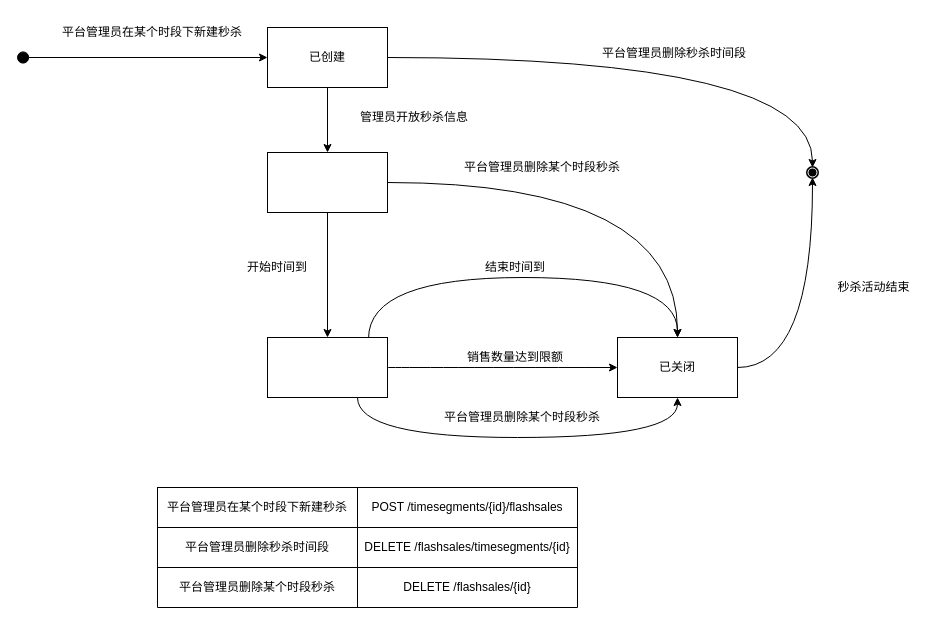
Some shapes in this 938 by 625 pixel diagram are drawn without their labels. The centre of each missing label's shape, as x and y in pixels:
"未开始" belongs at (x=327, y=182).
"进行中" belongs at (x=327, y=367).
